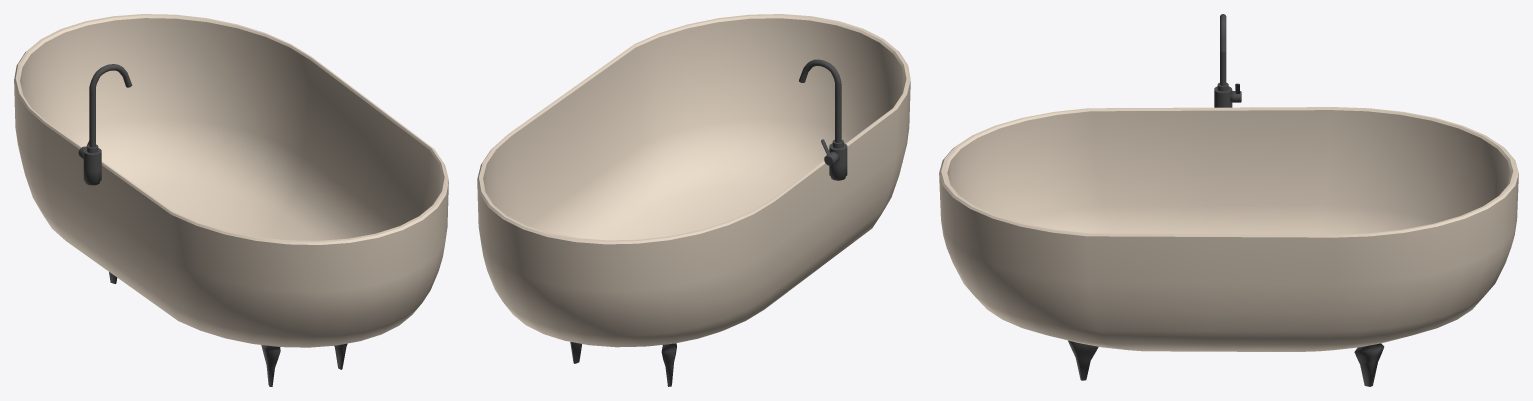
File: bath.fbx
3 views of the same model, side by side, from view 1: azimuth 30°, elevation 25°; view 2: azimuth 150°, elevation 25°; view 3: azimuth 270°, elevation 25° (orthographic).
Parts seen in each view (by area): view 1: Cylinder.007; view 2: Cylinder.007; view 3: Cylinder.007.
Part boxes in pixels (x1,y1,x2,y2): Cylinder.007: [14, 14, 448, 386]; Cylinder.007: [477, 14, 910, 386]; Cylinder.007: [939, 14, 1518, 386].
Size of the model in its own units: 101 by 99.15 by 182.
